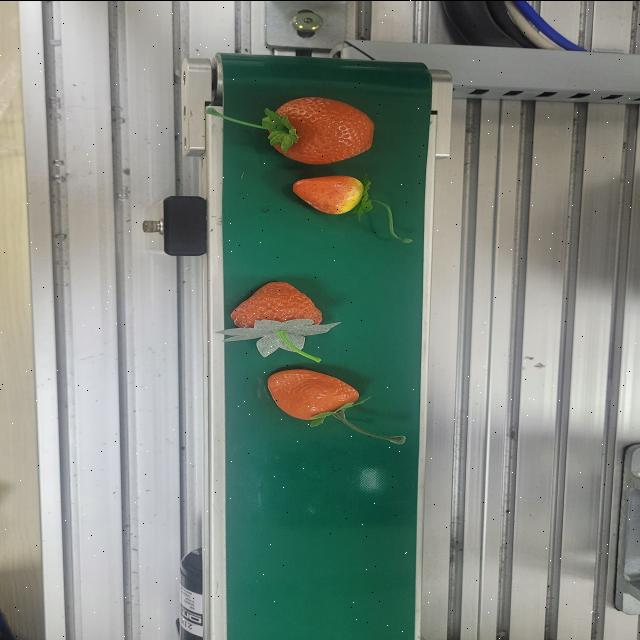Large Ripe Strawberry: (262, 94, 382, 164)
Small Ripe Strawberry: (226, 278, 338, 355), (262, 366, 364, 424)
Small Unripe Strawberry: (283, 173, 376, 217)
